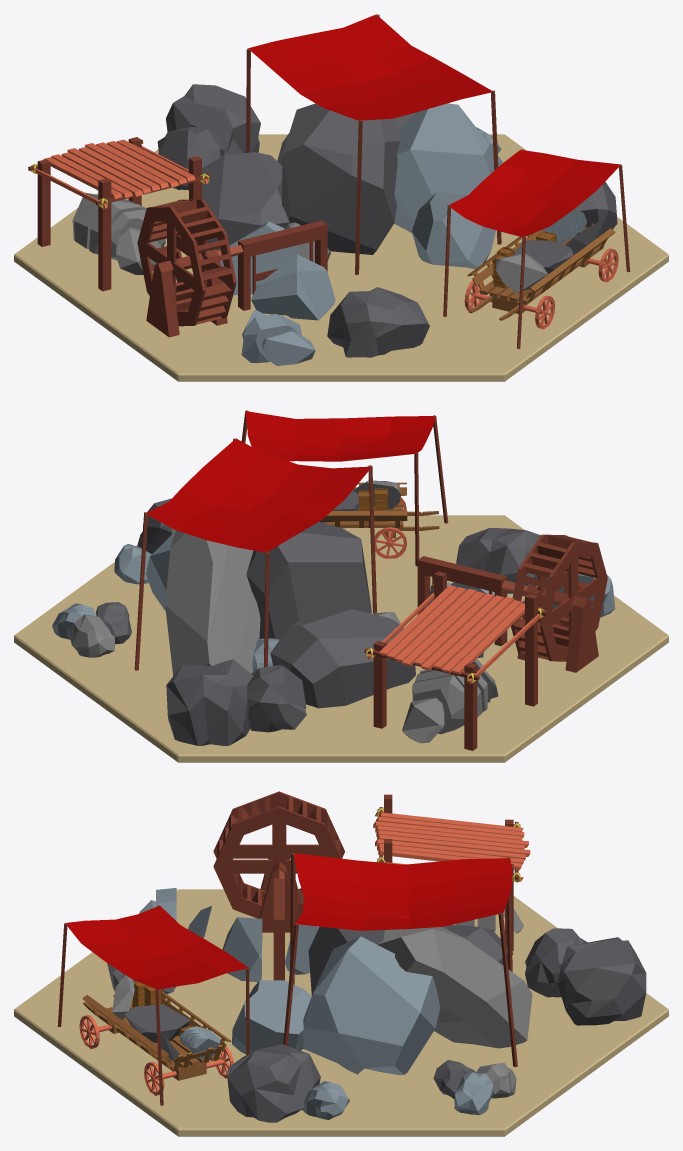
The model's file is Cantera.fbx.
The picture shows the model from 3 angles, top to bottom: view 1: azimuth 30°, elevation 25°; view 2: azimuth 150°, elevation 25°; view 3: azimuth 270°, elevation 25°; orthographic projection.
Visible parts, largest first — view 1: Cylinder, Cube.055, Cube.035, TelaPiedras, Noria, TelaCarreta, CasetaTecho, Cube.029, Caseta, Sierra, PilaresCasetaPiedras, Ruedas (+3 smaller); view 2: Cylinder, Cube.055, Cube.029, TelaPiedras, Noria, CasetaTecho, TelaCarreta, Cube.035, Caseta, Sierra, PilaresCasetaPiedras, PilaresCasetyaCarreta (+2 smaller); view 3: Cylinder, Cube.035, Cube.055, TelaPiedras, Cube.029, Noria, TelaCarreta, CasetaTecho, PilaresCasetaPiedras, Ruedas, TablonesL, PilaresCasetyaCarreta (+3 smaller).
Part boxes in pixels (left/top/right/bottom): Cylinder: left=14, top=134, right=668, bottom=381; Cube.055: left=157, top=84, right=617, bottom=357; Cube.035: left=220, top=103, right=586, bottom=365; TelaPiedras: left=248, top=14, right=492, bottom=120; Noria: left=137, top=199, right=236, bottom=337; TelaCarreta: left=449, top=150, right=620, bottom=237; CasetaTecho: left=33, top=139, right=208, bottom=208; Cube.029: left=72, top=112, right=547, bottom=293; Caseta: left=28, top=137, right=210, bottom=291; Sierra: left=238, top=220, right=327, bottom=310; PilaresCasetaPiedras: left=246, top=14, right=501, bottom=274; Ruedas: left=464, top=248, right=618, bottom=329; Cylinder: left=14, top=515, right=668, bottom=762; Cube.055: left=96, top=490, right=548, bottom=745; Cube.029: left=69, top=480, right=498, bottom=743; TelaPiedras: left=145, top=438, right=371, bottom=552; Noria: left=511, top=534, right=607, bottom=672; CasetaTecho: left=367, top=585, right=539, bottom=683; TelaCarreta: left=245, top=411, right=435, bottom=461; Cube.035: left=52, top=532, right=615, bottom=671; Caseta: left=364, top=571, right=547, bottom=750; Sierra: left=417, top=556, right=507, bottom=646; PilaresCasetaPiedras: left=134, top=438, right=376, bottom=670; PilaresCasetyaCarreta: left=241, top=410, right=448, bottom=566; Cylinder: left=14, top=889, right=668, bottom=1136; Cube.035: left=139, top=888, right=493, bottom=1119; Cube.055: left=107, top=925, right=646, bottom=1122; TelaPiedras: left=294, top=853, right=512, bottom=930; Cube.029: left=112, top=908, right=532, bottom=1098; Noria: left=213, top=791, right=344, bottom=932; TelaCarreta: left=65, top=906, right=248, bottom=989; CasetaTecho: left=373, top=812, right=530, bottom=881; PilaresCasetaPiedras: left=283, top=853, right=517, bottom=1067; Ruedas: left=79, top=1015, right=233, bottom=1095; TablonesL: left=82, top=991, right=231, bottom=1064; PilaresCasetyaCarreta: left=57, top=905, right=249, bottom=1105.
Size of the model in its own units: 6243 by 2197 by 7193.
